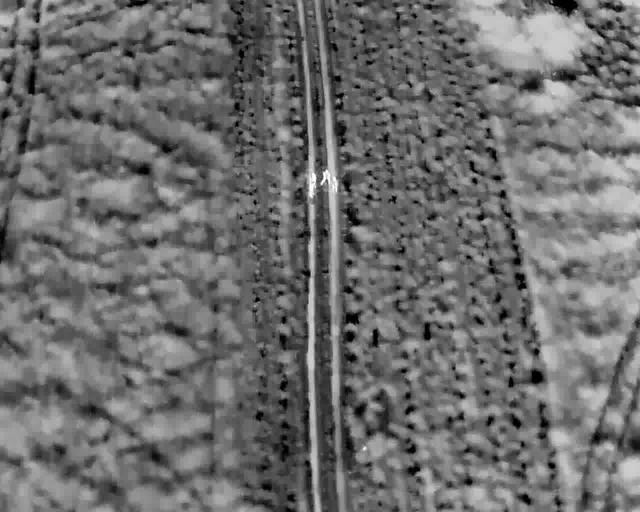person: (319, 168, 331, 185), (306, 180, 316, 200), (330, 174, 339, 193), (307, 170, 316, 188)
